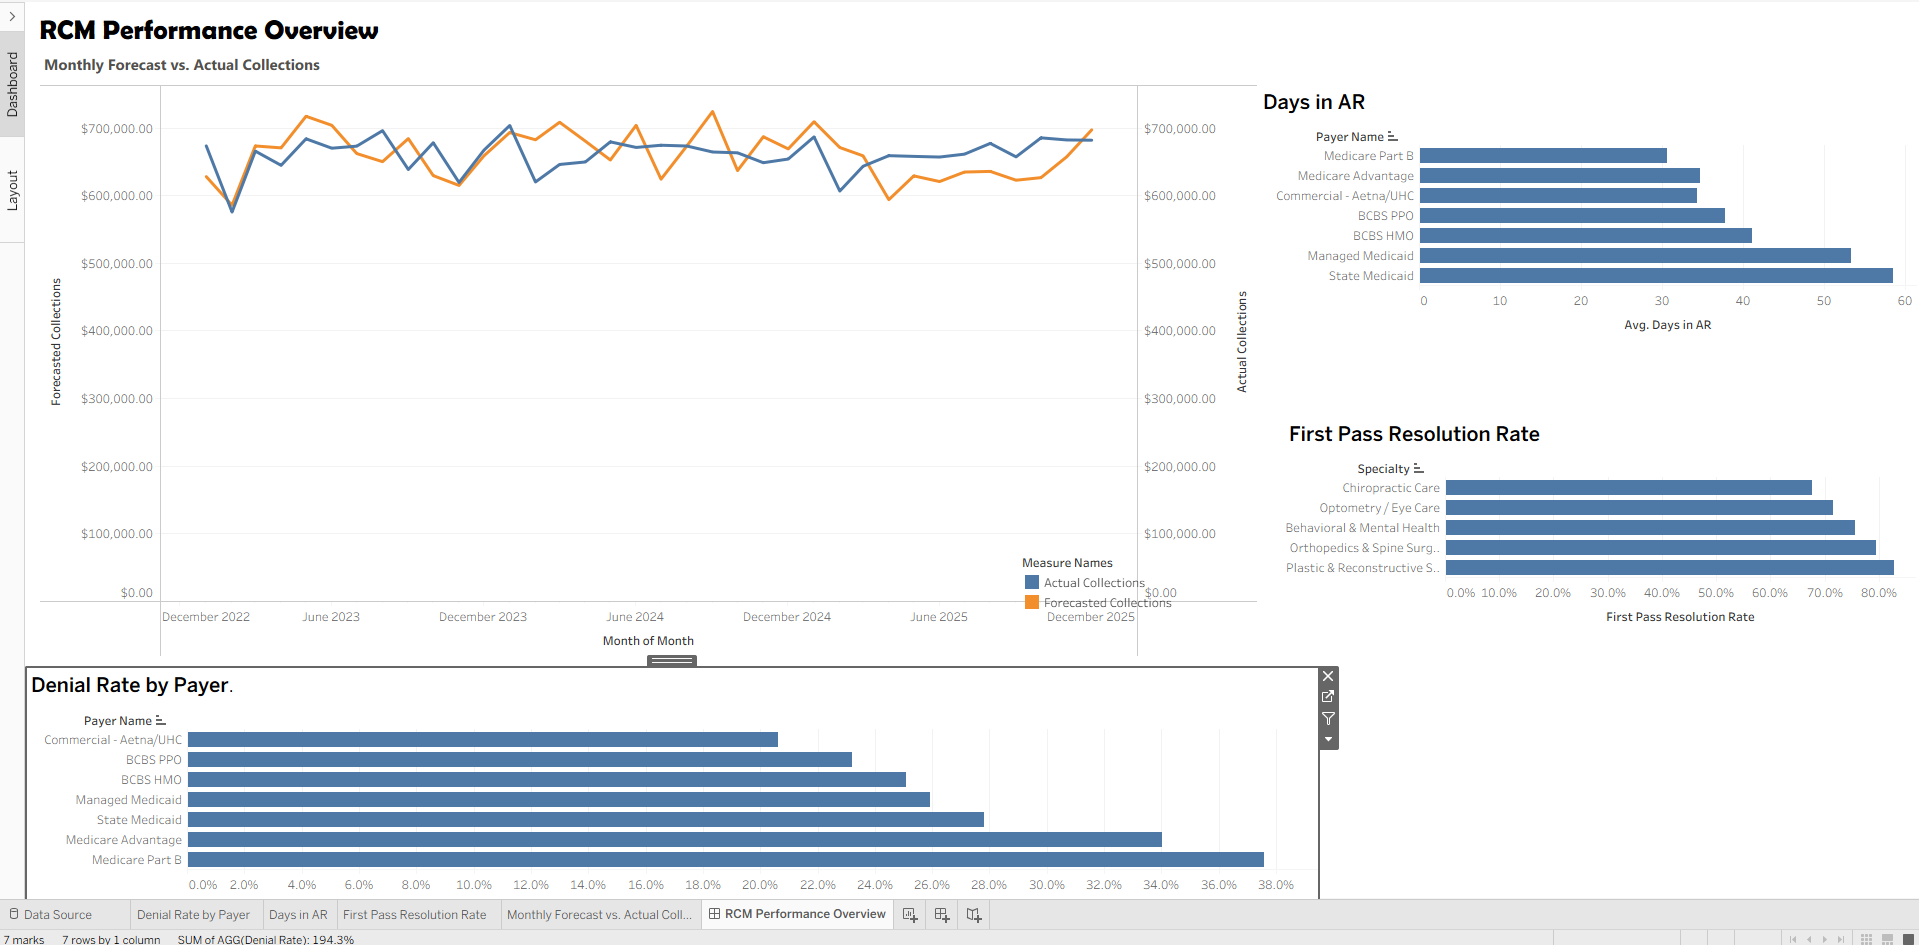

What the dashboard file says about the page in this screenshot:
{"tool":"tableau","page":{"name":"RCM Performance Overview","canvas":[1000,1000],"units":"permille","ordinal":0},"visuals":[{"type":"title","box":[4.2,7.4,991.7,36.1]},{"type":"worksheet","title":"Monthly Forecast vs. Actual Collections","mark":"Automatic","rows":["forecasted_collections","actual_collections"],"cols":["month"],"box":[8.1,53.4,554.6,516.6]},{"type":"worksheet","title":"Days in AR","mark":"Automatic","rows":["payer_name"],"cols":["Calculation_0465679528845314"],"box":[566.9,90.3,431.4,469.1]},{"type":"legend","title":"Monthly Forecast vs. Actual Collections","param":"[federated.0yqw26i0ewxxne129ik950s516tz].[:Measure Names]","box":[388.9,416.9,102.9,84.3]},{"type":"worksheet","title":"First Pass Resolution Rate","mark":"Automatic","rows":["specialty"],"cols":["Calculation_0465680924385283"],"box":[584.9,564.1,390.1,332.5]},{"type":"worksheet","title":"Denial Rate by Payer","mark":"Automatic","rows":["payer_name"],"cols":["Calculation_0465679526158337"],"box":[7,583.1,569.8,314.7]}]}

Visuals, with their boxes on the dashboard's canvas, which has no fixed pixel size, in thousandths of its width and height (x1, y1, x2, y2). These are canvas units, not pixel positions in the 1919x945 screenshot, which may show the page scaled, cropped or inside an application window:
title: [left=4, top=7, right=996, bottom=44]
"Monthly Forecast vs. Actual Collections" worksheet: [left=8, top=53, right=563, bottom=570]
"Days in AR" worksheet: [left=567, top=90, right=998, bottom=559]
"Monthly Forecast vs. Actual Collections" legend: [left=389, top=417, right=492, bottom=501]
"First Pass Resolution Rate" worksheet: [left=585, top=564, right=975, bottom=897]
"Denial Rate by Payer" worksheet: [left=7, top=583, right=577, bottom=898]
